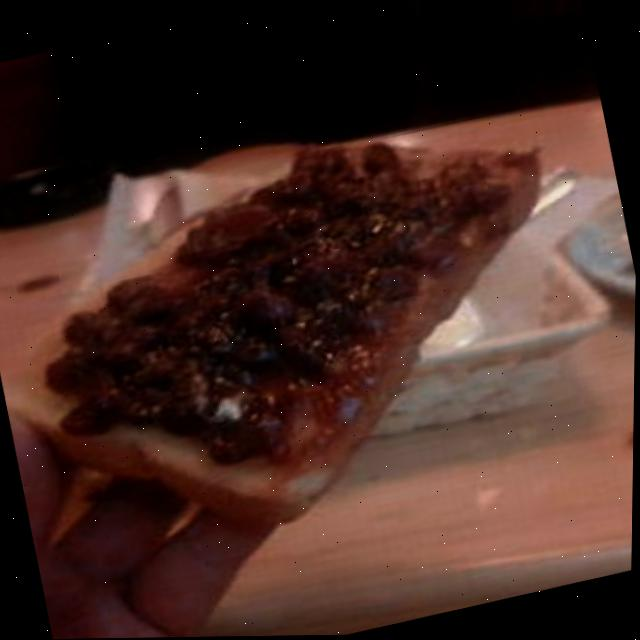面包点心: (0, 78, 617, 565)
